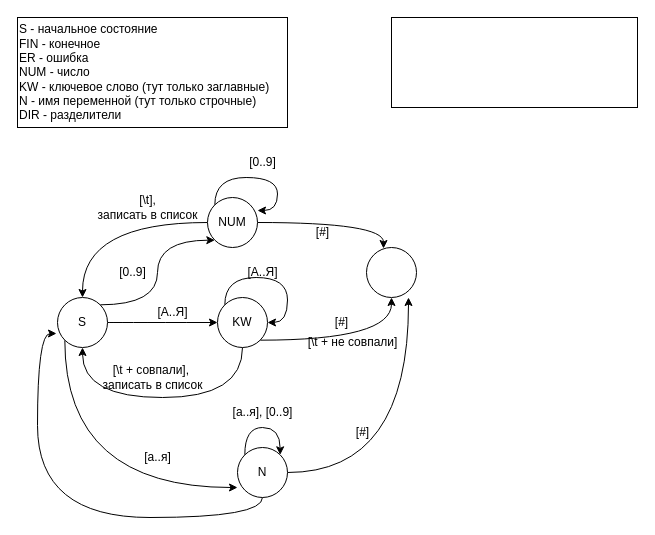
The diagram is 655 pixels wide and 535 high, and some of its shapes have lost their labels. Here are the shapes that lost their labels. From the top down, the centre of each, then its label:
At [514,62]: "Пример: СУММА а, 12;".
At [391,272]: "ER".
